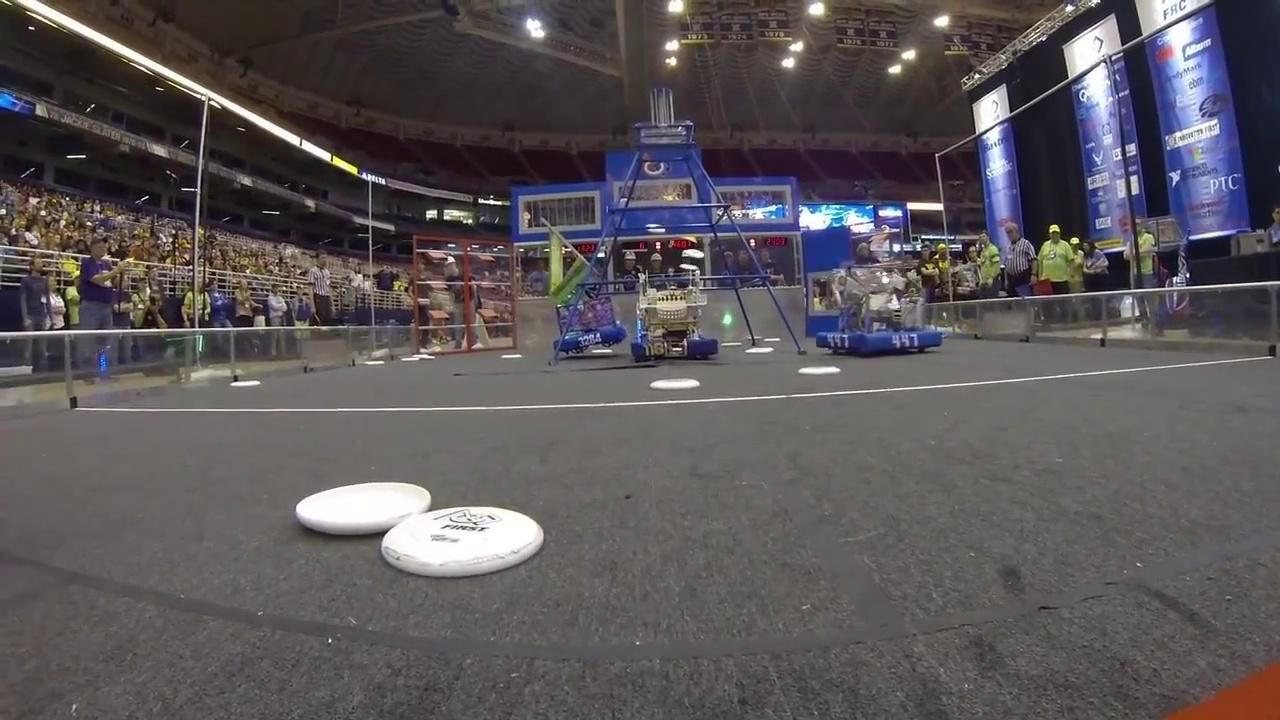robot: (531, 215, 631, 360), (813, 260, 943, 359), (624, 269, 723, 363)
